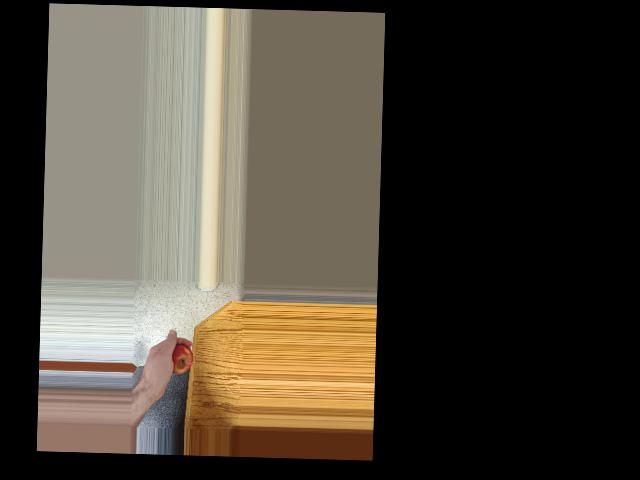apple: (159, 342, 194, 378)
